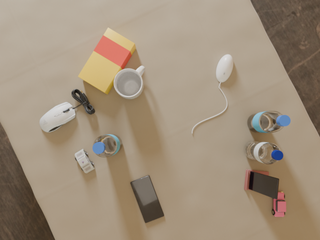bottle: (247, 111, 290, 133), (244, 141, 283, 164), (93, 135, 122, 157)
box: (78, 28, 136, 94)
cup: (114, 66, 145, 99)
mouse: (40, 102, 76, 132), (216, 55, 233, 82)
phone: (130, 175, 164, 223), (249, 171, 279, 200)
toy_car: (75, 149, 94, 173), (272, 192, 286, 217)
